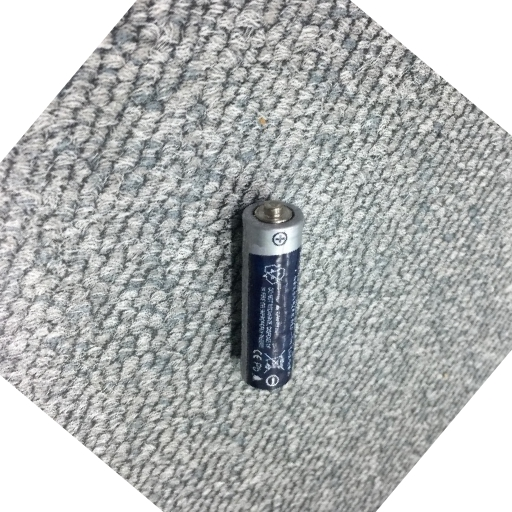Battery_0: (232, 185, 315, 408)
